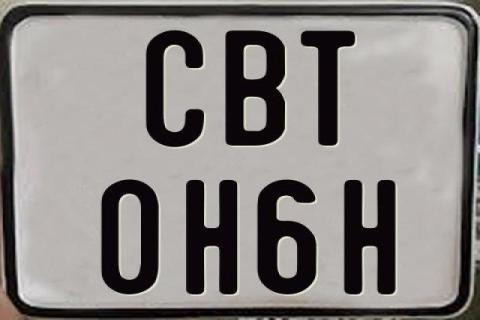0: (254, 180, 319, 296), (100, 178, 159, 294)
B: (225, 28, 288, 147)
C: (144, 29, 202, 149)
H: (342, 178, 398, 298), (185, 180, 238, 298)
T: (298, 29, 354, 145)
